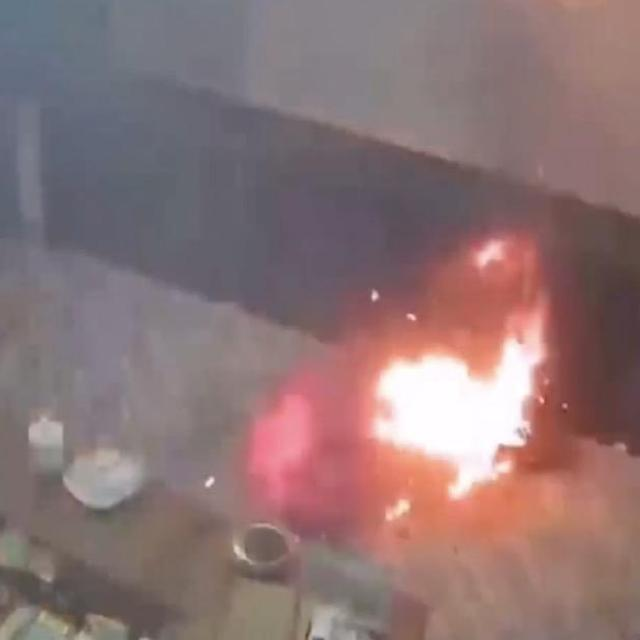smoke: (376, 322, 542, 499)
